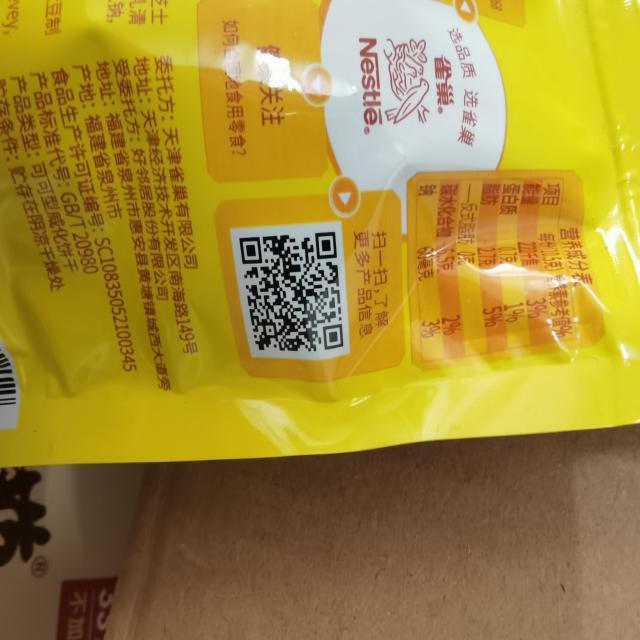qr_code: (240, 232, 344, 350)
